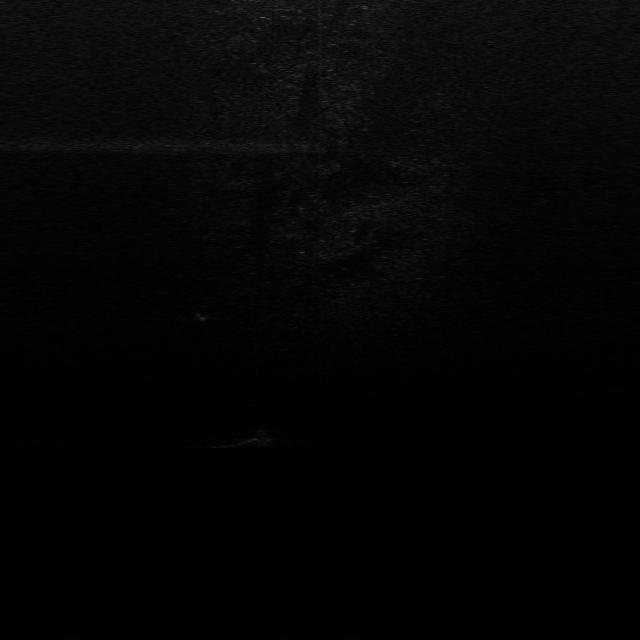ball: (244, 427, 277, 450)
circle cage: (193, 304, 216, 322)
